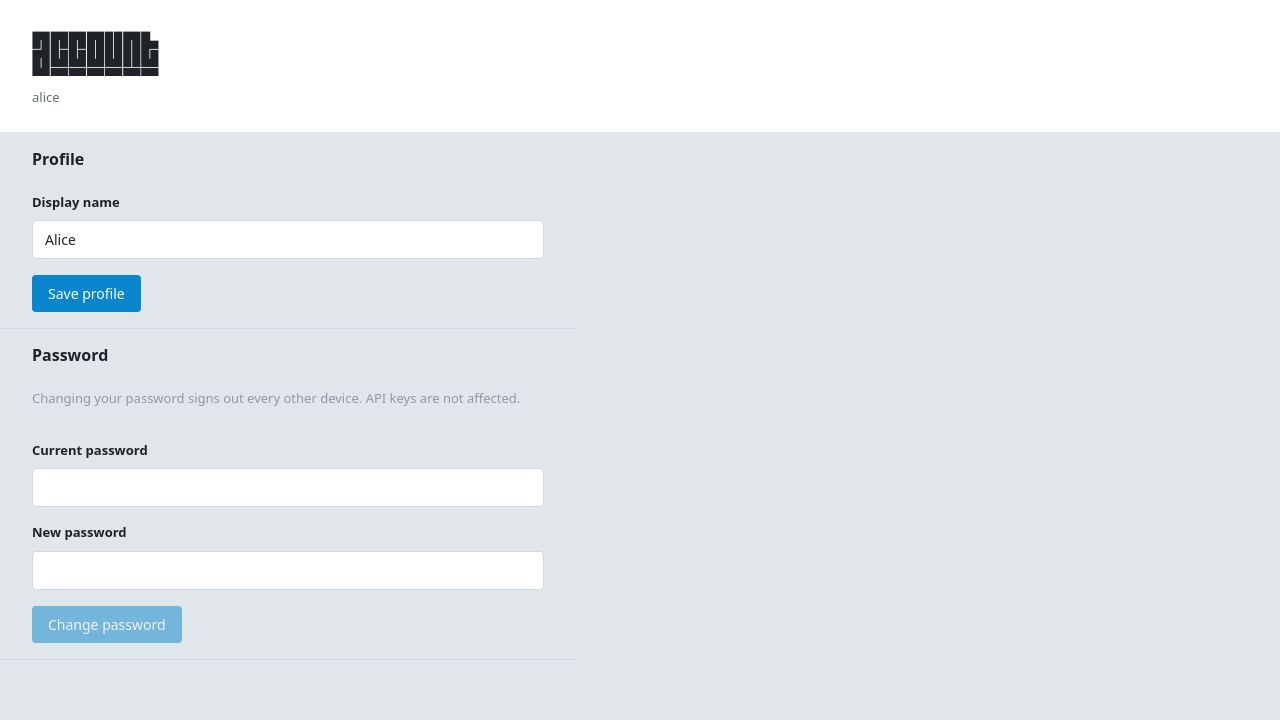
Test case: Account › shows a 403 as an inline field error
Type "wrong" into the password field labelled "Current password" at {"x": 288, "y": 488}, box [32,468,544,507]
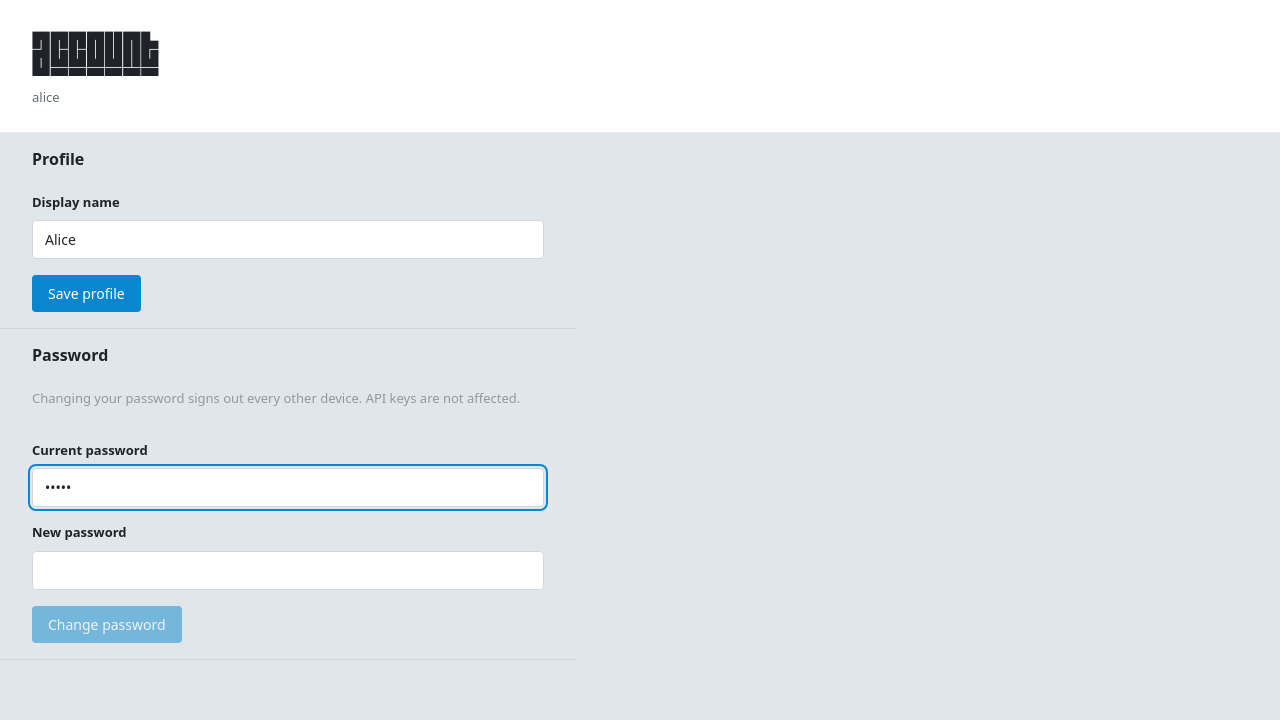
Type "new-pw" into the password field labelled "New password" at {"x": 288, "y": 570}, box [32,550,544,590]
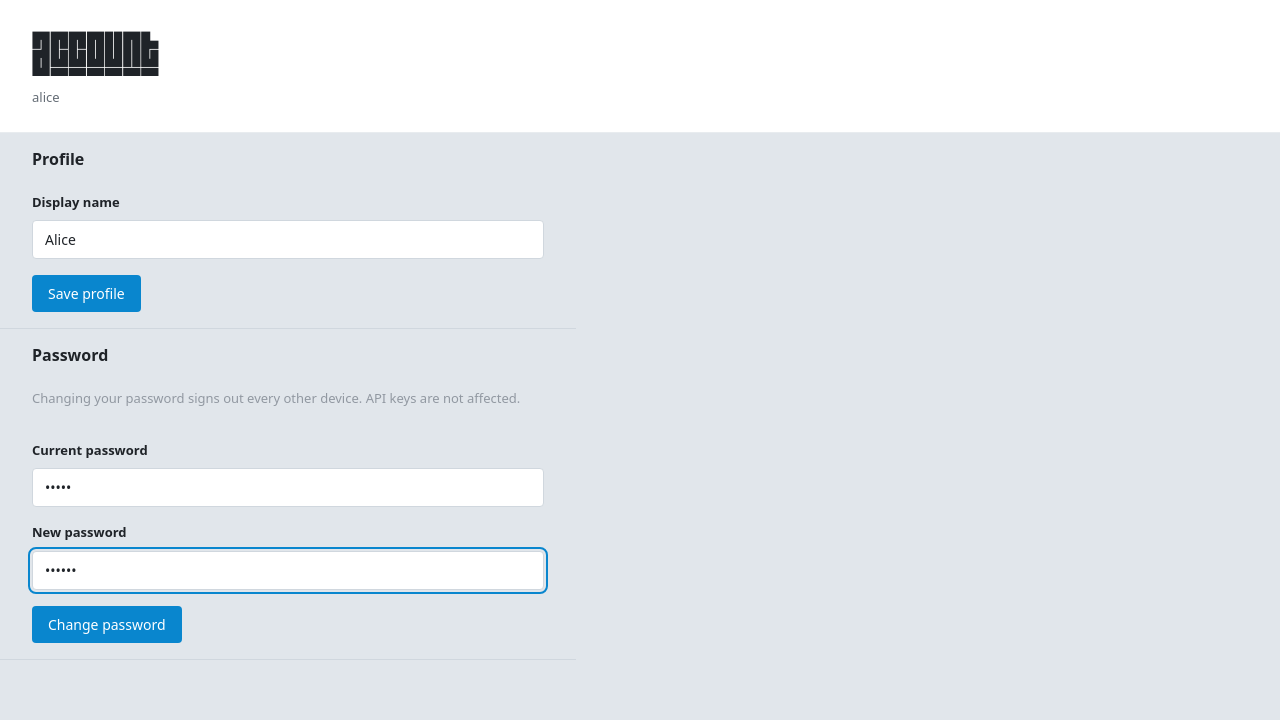
Click the button "Change password" at {"x": 107, "y": 624}, box [32,606,182,642]
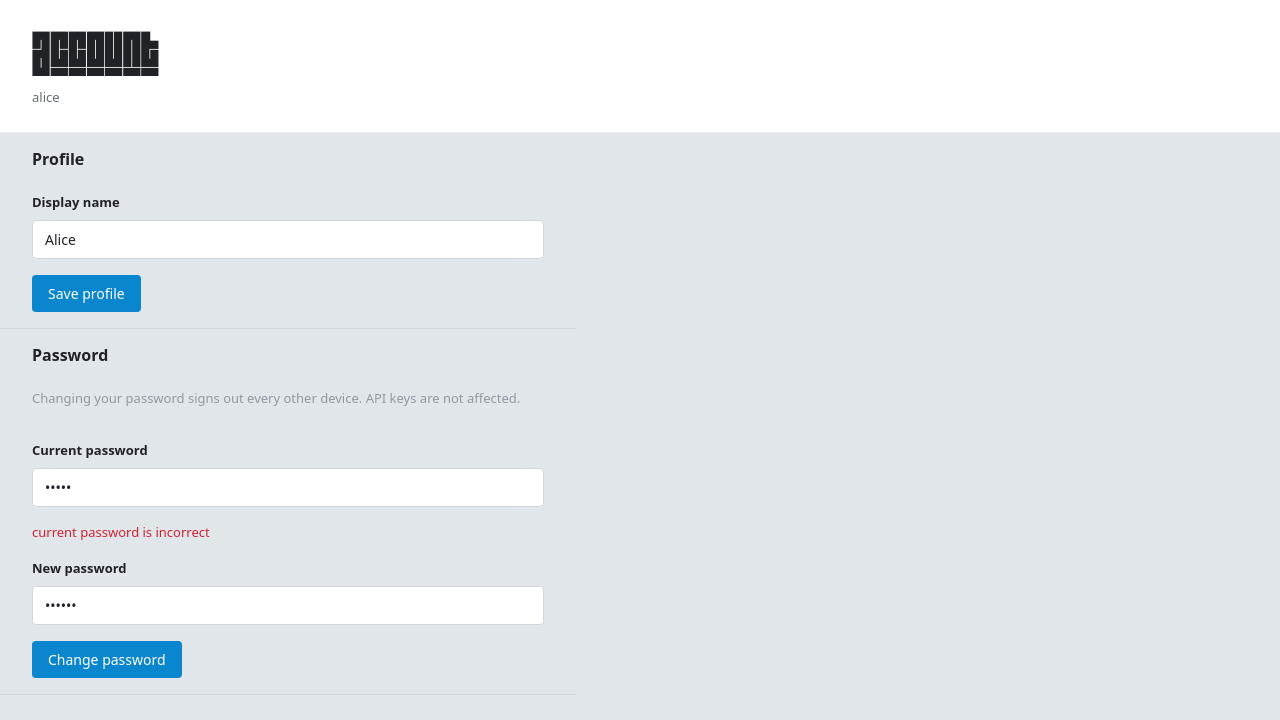
Expected: the text "current password is incorrect" is shown, [32,523,210,541]
